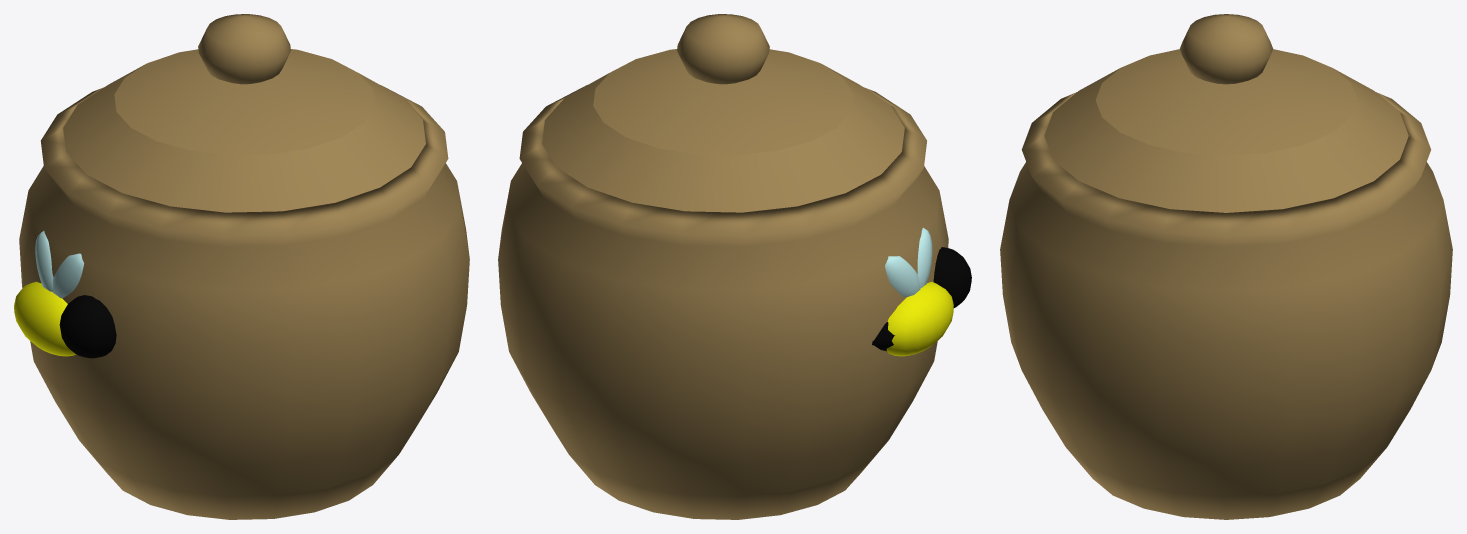
Rendered from hånungsburkklar2.fbx.
3 views of the same model, side by side, from view 1: azimuth 30°, elevation 25°; view 2: azimuth 150°, elevation 25°; view 3: azimuth 270°, elevation 25° (orthographic).
Parts seen in each view (by area): view 1: pSphere8; view 2: pSphere8; view 3: pSphere8.
Part boxes in pixels (bbox=[...]): pSphere8: bbox=[14, 14, 469, 519]; pSphere8: bbox=[498, 14, 971, 519]; pSphere8: bbox=[1000, 14, 1452, 519].
Bounding box in the file's own units: 0.7035 × 0.7386 × 0.6657.
